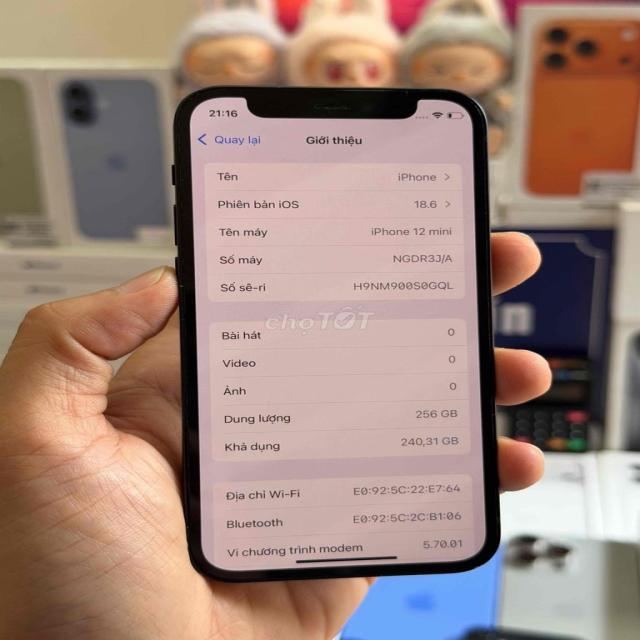gen_12_13: (168, 80, 502, 580)
